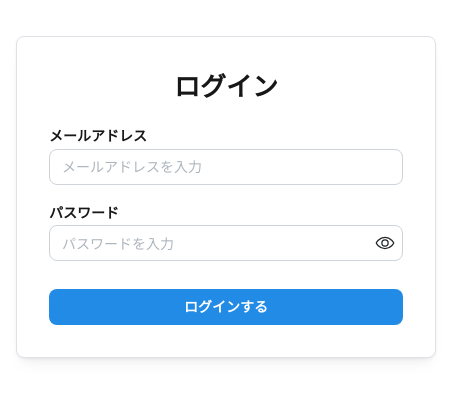
it: ログイン画面 › 未入力ならエラーを表示し、APIを呼ばない
Click the button "ログインする" at (226, 307), box [49,289,403,325]
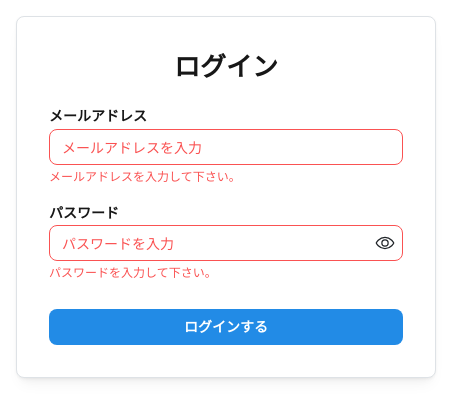
Check: the text "メールアドレスを入力して下さい。" is shown, box [49,170,241,184]
Check: the text "パスワードを入力して下さい。" is shown, box [49,266,217,280]
